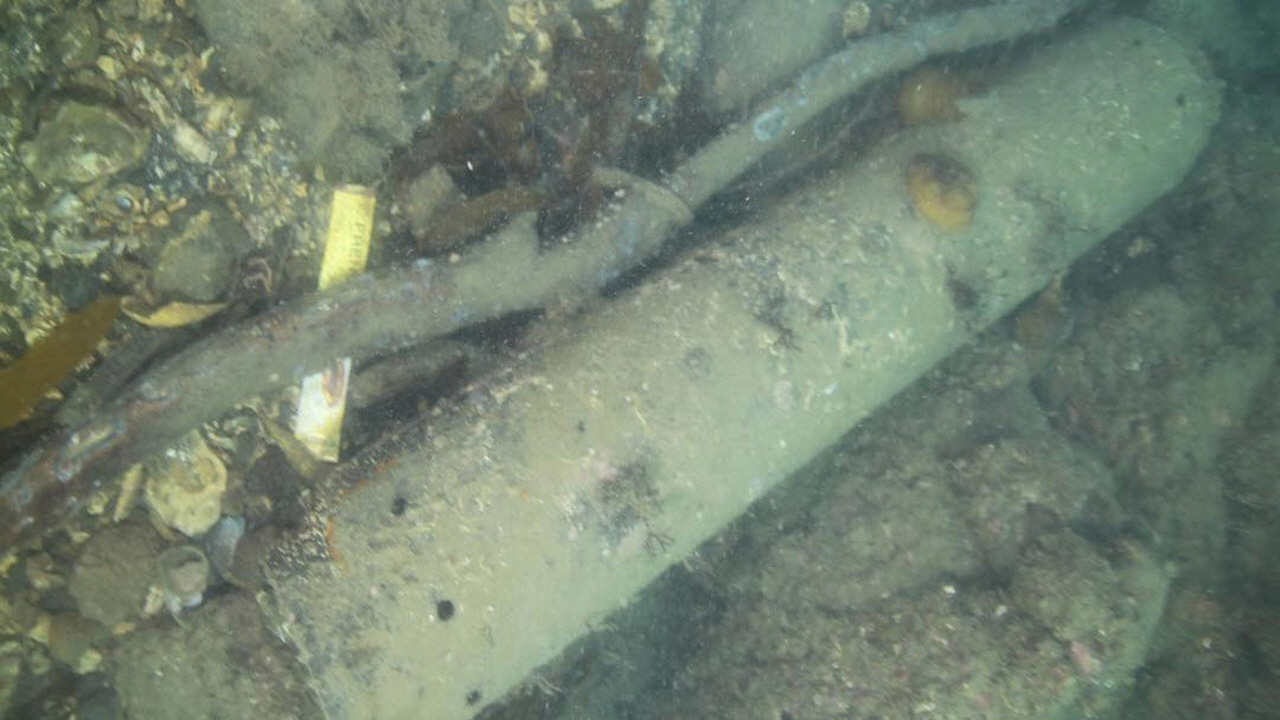eel fish trap: (254, 11, 1224, 718)
